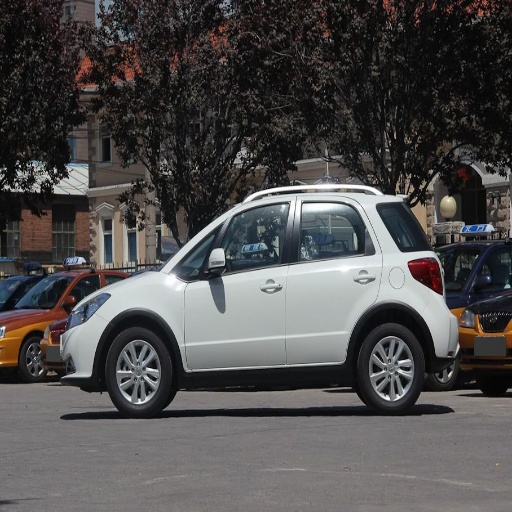back_bumper: (423, 291, 459, 359)
back_glass: (378, 203, 428, 249)
back_left_door: (286, 194, 382, 362)
front_left_door: (183, 195, 295, 369)
